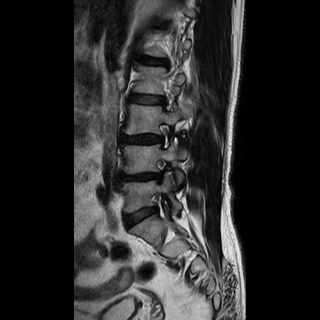RFS0: (153, 116, 174, 153)
RFS3: (145, 155, 174, 187)
